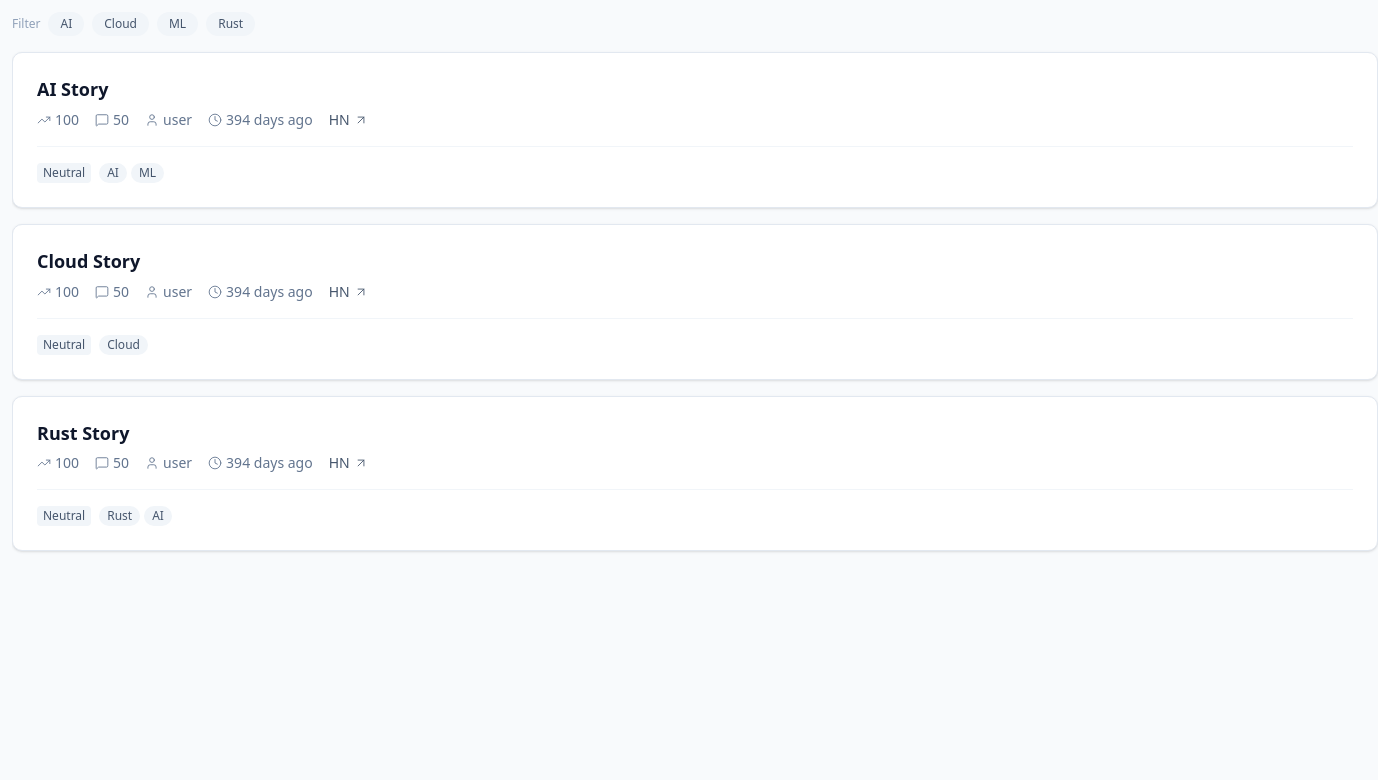
Test: TopicFilteredStoryList › clicking Clear restores all stories
Click the button "Cloud" at [121, 24], box 92,12 -> 149,36
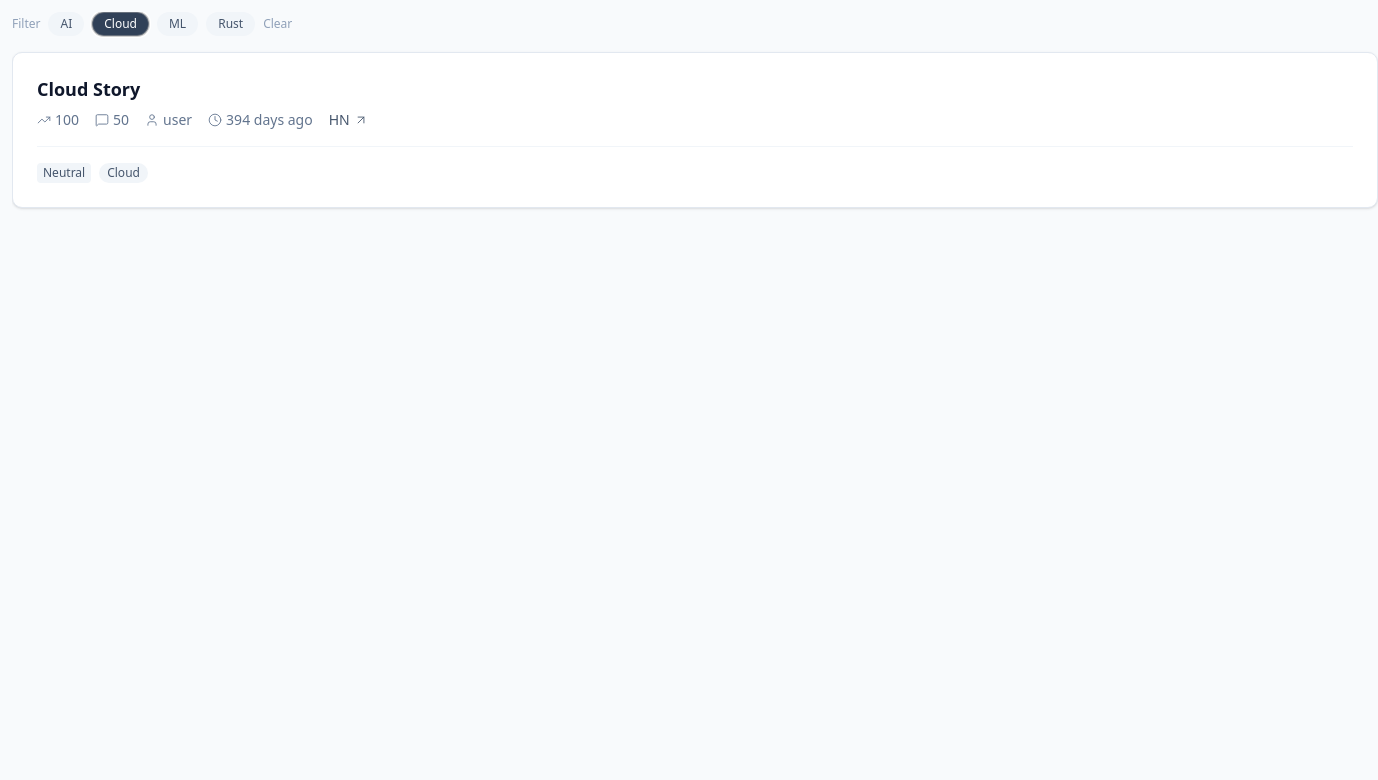
Expected: the heading "AI Story" is gone
Click the button "Clear" at [278, 24], box 263,16 -> 292,32
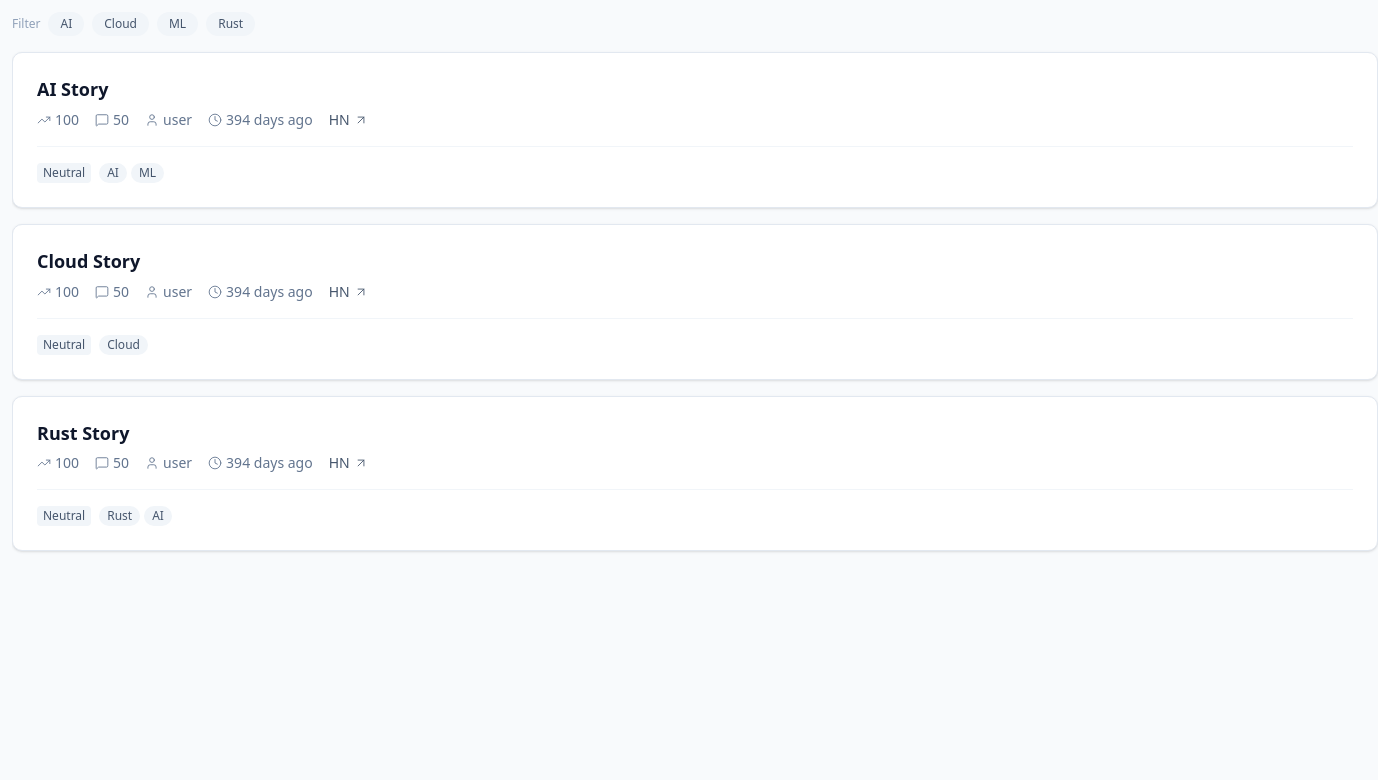
Expected: the heading "Cloud Story" is shown, 37,249 -> 140,273
Expected: the heading "AI Story" is shown, 37,77 -> 108,101
Expected: the heading "Rust Story" is shown, 37,420 -> 129,444
